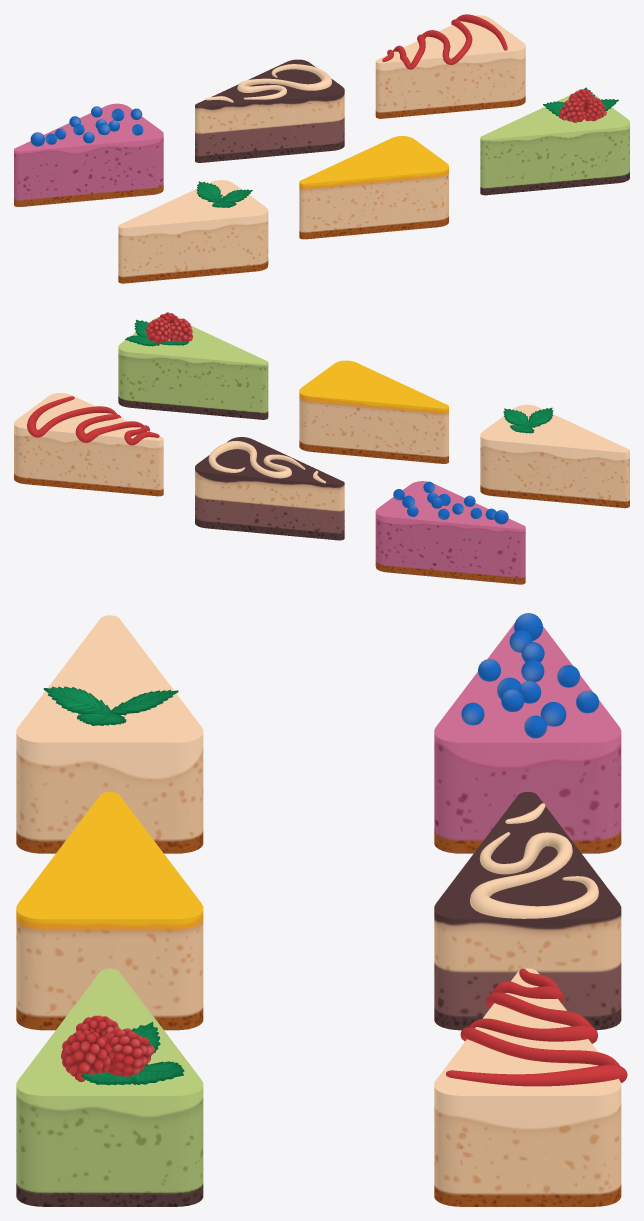
3 views of the same model, one above another, from view 1: azimuth 30°, elevation 25°; view 2: azimuth 150°, elevation 25°; view 3: azimuth 270°, elevation 25° (orthographic). The views are drawn at different scales.
Visible parts, largest first — view 1: pie.004, pie.001, pie, pie.003, pie.002, pie.005, Vert.001, Vert, berries, leaf, raspberry, raspberry.001; view 2: pie.004, pie.001, pie, pie.002, pie.005, pie.003, Vert.001, berries, Vert, leaf, leaf.001, raspberry.002 (+1 smaller); view 3: pie.004, pie.005, pie.001, pie.003, pie, pie.002, Vert.001, berries, Vert, leaf, raspberry.001, raspberry.002 (+1 smaller).
Part boxes in pixels (x1=…): pie.004: x1=299, y1=136, x2=448, y2=239; pie.001: x1=118, y1=180, x2=268, y2=283; pie: x1=14, y1=103, x2=163, y2=206; pie.003: x1=375, y1=15, x2=525, y2=118; pie.002: x1=195, y1=59, x2=344, y2=162; pie.005: x1=480, y1=94, x2=629, y2=195; Vert.001: x1=382, y1=14, x2=507, y2=69; Vert: x1=205, y1=64, x2=331, y2=102; berries: x1=30, y1=106, x2=143, y2=146; leaf: x1=196, y1=181, x2=252, y2=207; raspberry: x1=558, y1=97, x2=585, y2=122; raspberry.001: x1=582, y1=96, x2=606, y2=121; pie.004: x1=299, y1=360, x2=448, y2=463; pie.001: x1=480, y1=404, x2=629, y2=508; pie: x1=375, y1=481, x2=525, y2=584; pie.002: x1=195, y1=437, x2=344, y2=540; pie.005: x1=118, y1=317, x2=268, y2=419; pie.003: x1=14, y1=393, x2=163, y2=496; Vert.001: x1=27, y1=396, x2=159, y2=445; berries: x1=393, y1=481, x2=508, y2=524; Vert: x1=208, y1=441, x2=325, y2=483; leaf: x1=503, y1=407, x2=553, y2=433; leaf.001: x1=125, y1=319, x2=188, y2=346; raspberry.002: x1=146, y1=318, x2=170, y2=343; pie.004: x1=16, y1=792, x2=203, y2=1030; pie.005: x1=16, y1=968, x2=203, y2=1206; pie.001: x1=16, y1=615, x2=203, y2=853; pie.003: x1=434, y1=968, x2=621, y2=1206; pie: x1=434, y1=623, x2=621, y2=853; pie.002: x1=434, y1=792, x2=621, y2=1030; Vert.001: x1=446, y1=968, x2=627, y2=1086; berries: x1=461, y1=613, x2=598, y2=738; Vert: x1=470, y1=803, x2=598, y2=918; leaf: x1=43, y1=686, x2=178, y2=725; raspberry.001: x1=61, y1=1030, x2=113, y2=1081; raspberry.002: x1=104, y1=1028, x2=154, y2=1076.
Bounding box in the file's own units: 5.49 × 0.8041 × 2.93.
Materials: 1 (1 with a texture image).
